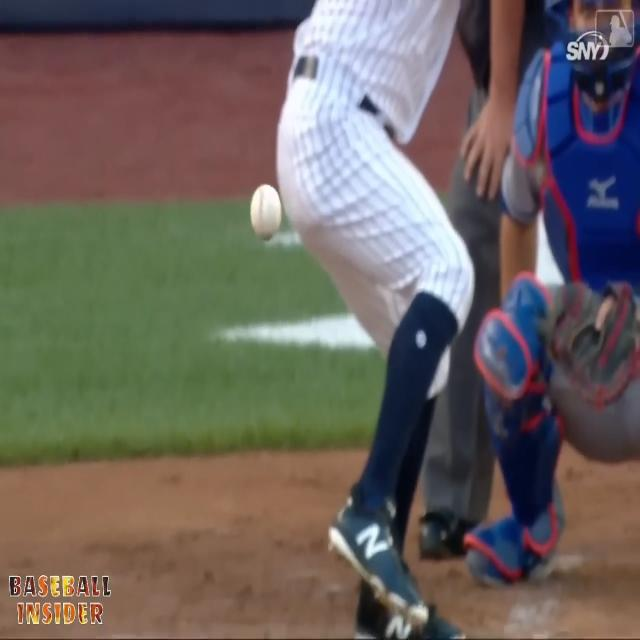baseball: (250, 181, 282, 242)
